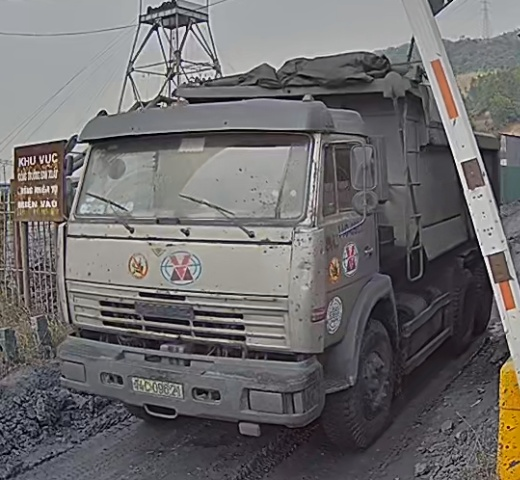vehicle plate: (129, 373, 192, 402)
